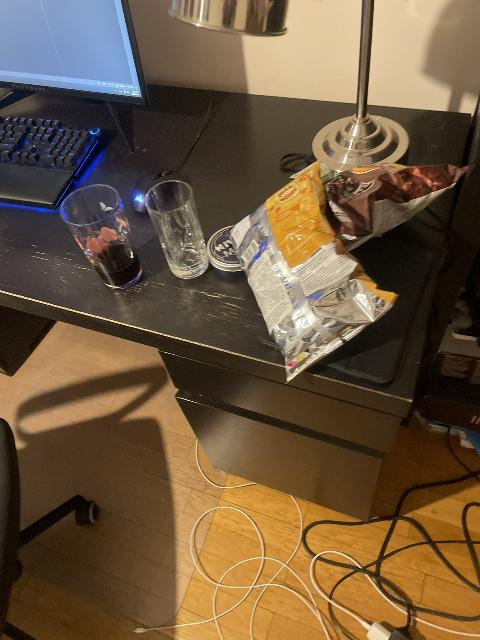Chio Hula Hoops Cheese 70g: (232, 165, 390, 382)
Lays Beef Grilled Ribs 125g: (326, 162, 470, 246)
